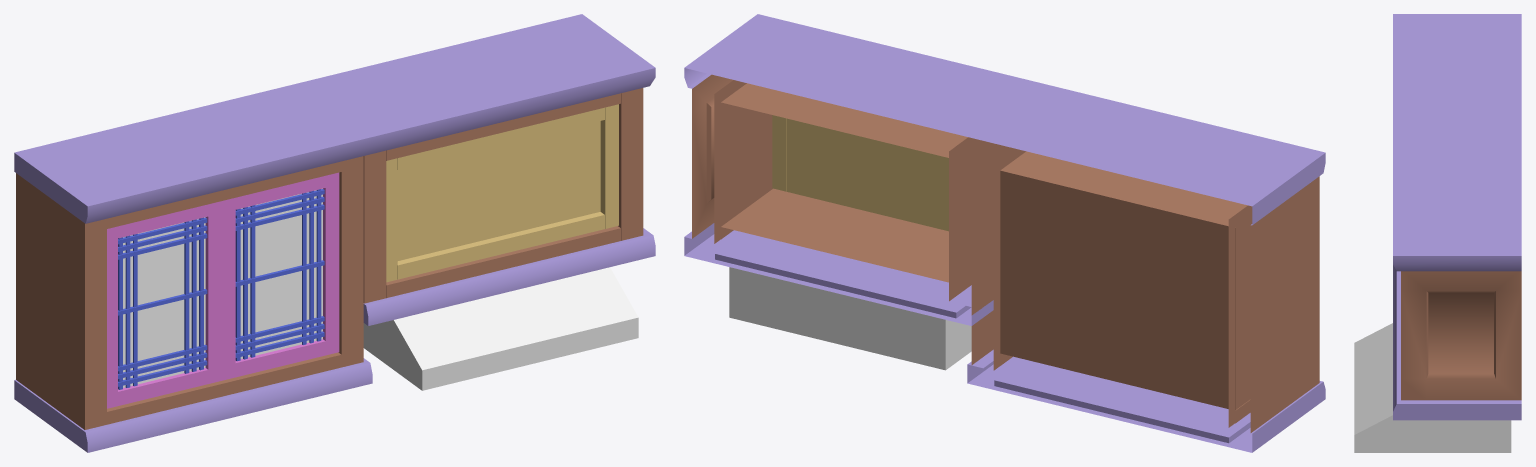
Rendered from Cupboard_Oven.fbx.
3 views of the same model, side by side, from view 1: azimuth 30°, elevation 25°; view 2: azimuth 150°, elevation 25°; view 3: azimuth 270°, elevation 25° (orthographic). The views are drawn at different scales.
Parts seen in each view (by area): view 1: Cupboard_Oven; view 2: Cupboard_Oven; view 3: Cupboard_Oven.
Part boxes in pixels (x1,y1,x2,y2): Cupboard_Oven: [14, 14, 655, 452]; Cupboard_Oven: [684, 14, 1325, 452]; Cupboard_Oven: [1354, 14, 1521, 452].
Bounding box in the file's own units: 143 × 59.13 × 41.57.
